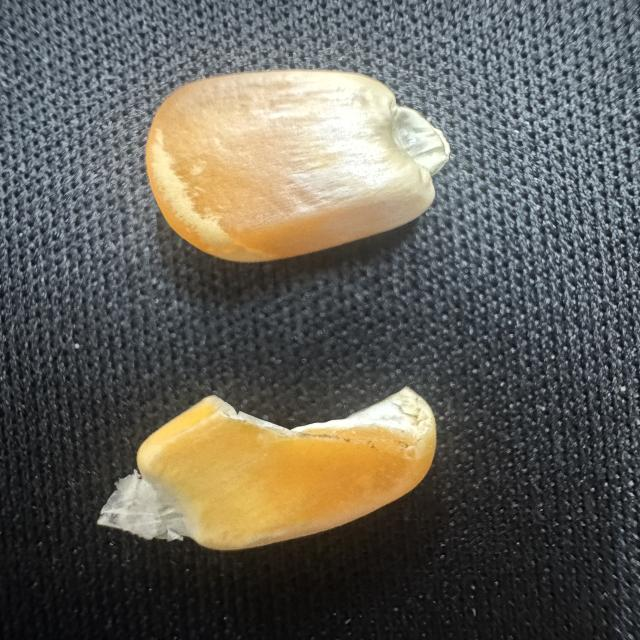Bad-Seed: (83, 378, 446, 572)
Good-Seed: (123, 62, 455, 278)
